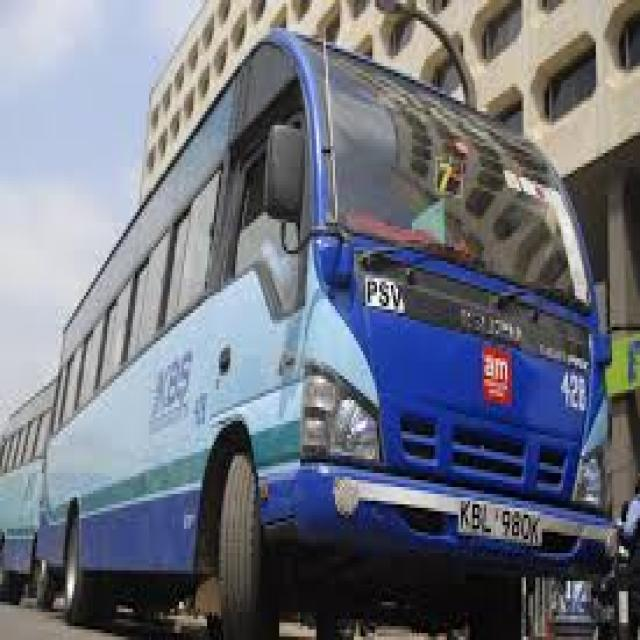bus: (36, 0, 631, 640)
